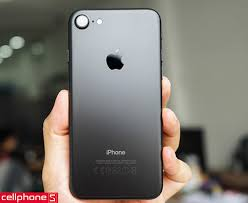iphone: (66, 5, 164, 197)
iphone7: (68, 7, 166, 199)
